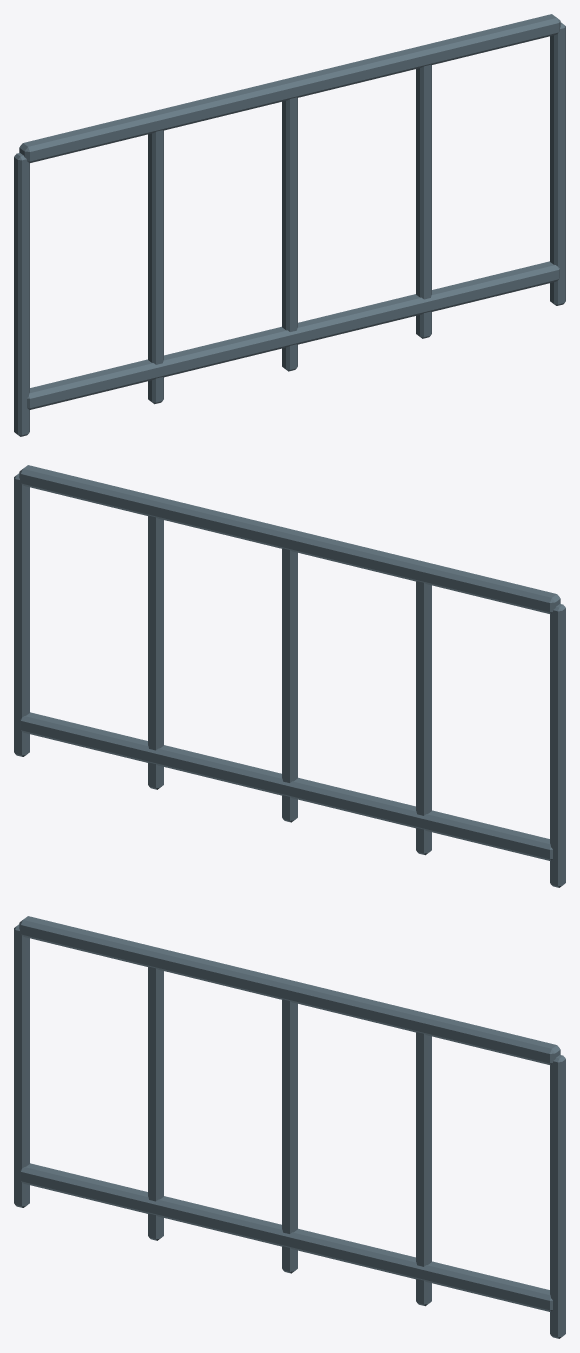
Rendered from architecture-city-rail.lod0.glb.
3 renders of one model, top to bottom at view 1: azimuth 30°, elevation 25°; view 2: azimuth 150°, elevation 25°; view 3: azimuth 330°, elevation 25°, orthographic.
Parts seen in each view (by area): view 1: architecture-city-rail__body; view 2: architecture-city-rail__body; view 3: architecture-city-rail__body.
Part boxes in pixels (x1,y1,x2,y2): architecture-city-rail__body: [14, 14, 565, 436]; architecture-city-rail__body: [14, 465, 565, 887]; architecture-city-rail__body: [14, 916, 565, 1338].
Size of the model in its own units: 2.05 by 1.03 by 0.06.
